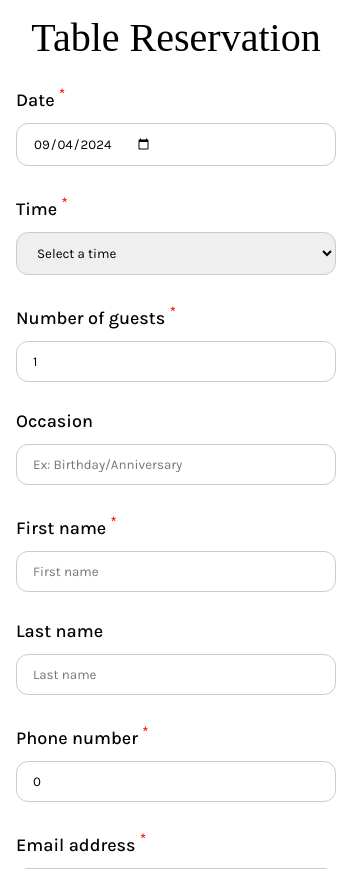
Test: BookingForm › validates required fields
The image size is (353, 869).
Clear the number field labelled "Phone number *": (176, 782) [16, 761, 336, 802]
(page scrolled)
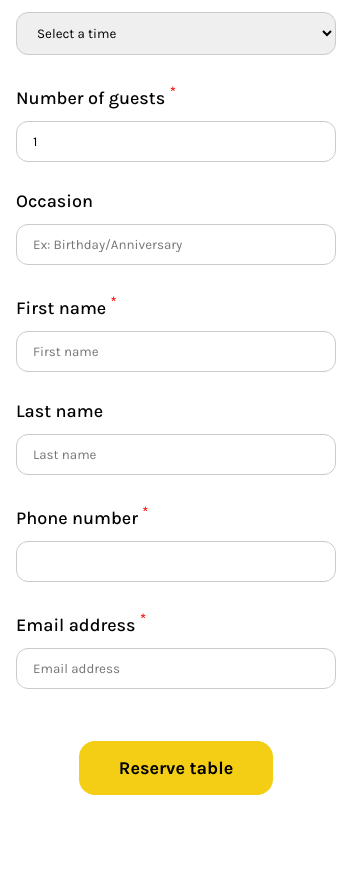
Click the button "Reserve table": (176, 768) [79, 741, 273, 795]
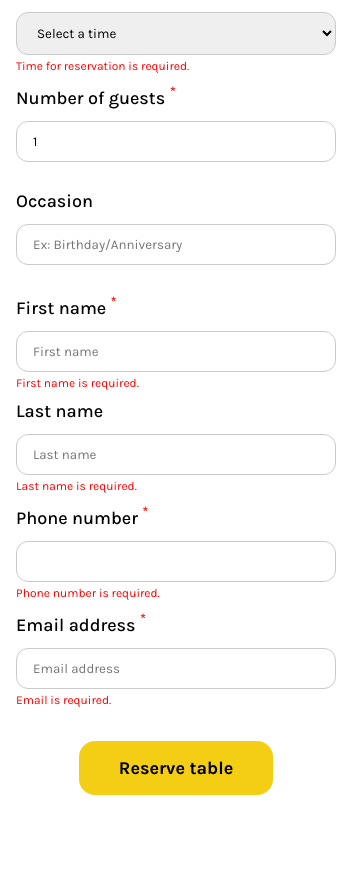
Check: the text "First name is required." is shown, box [16, 376, 139, 390]
Check: the text "Last name is required." is shown, box [16, 479, 137, 493]
Check: the text "Phone number is required." is shown, box [16, 586, 160, 600]
